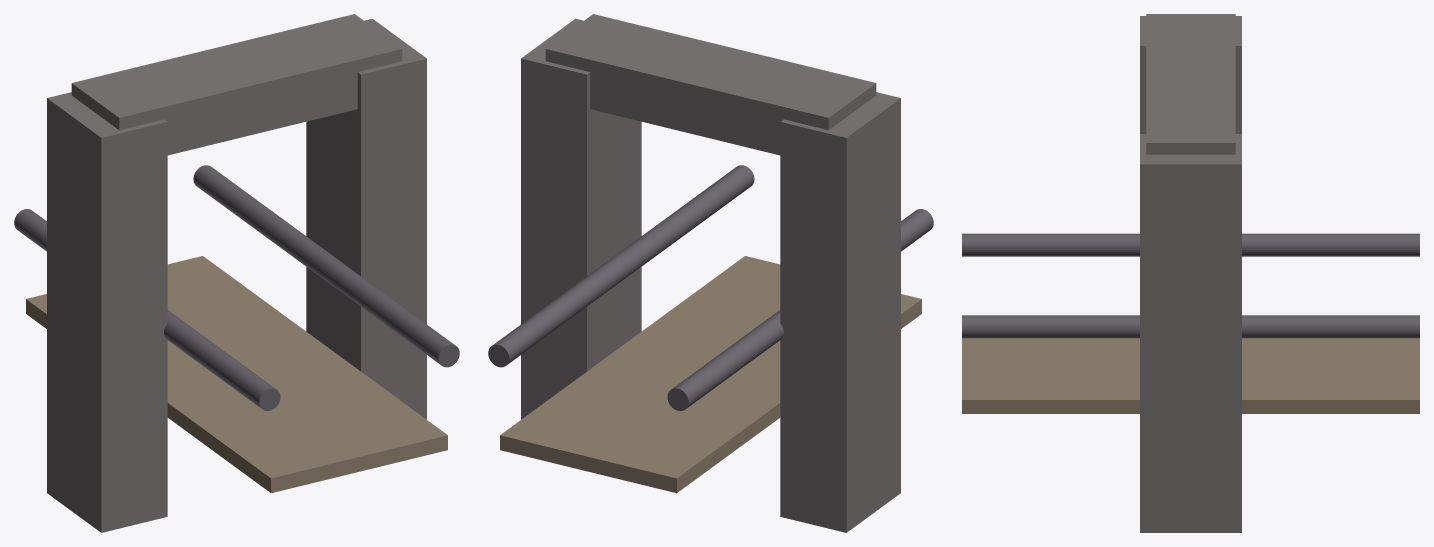
The model's file is structure_monumental_chain_bridge.glb.
3 renders of one model, left to right at view 1: azimuth 30°, elevation 25°; view 2: azimuth 150°, elevation 25°; view 3: azimuth 270°, elevation 25°, orthographic. The views are drawn at different scales.
Parts seen in each view (by area): view 1: Abyss_Pylon_Left, Suspended_Deck_Platform, Abyss_Pylon_Right, Pylon_Connecting_Arch, Titan_Cable_Chain_R, Titan_Cable_Chain_L; view 2: Abyss_Pylon_Left, Suspended_Deck_Platform, Abyss_Pylon_Right, Pylon_Connecting_Arch, Titan_Cable_Chain_R, Titan_Cable_Chain_L; view 3: Abyss_Pylon_Right, Suspended_Deck_Platform, Pylon_Connecting_Arch, Titan_Cable_Chain_L, Titan_Cable_Chain_R, Abyss_Pylon_Left.
Part boxes in pixels (x1,y1,x2,y2): Abyss_Pylon_Left: (47, 92, 167, 532); Suspended_Deck_Platform: (26, 256, 447, 493); Abyss_Pylon_Right: (306, 18, 426, 419); Pylon_Connecting_Arch: (71, 14, 402, 155); Titan_Cable_Chain_R: (193, 165, 459, 367); Titan_Cable_Chain_L: (14, 209, 280, 410); Abyss_Pylon_Left: (780, 92, 900, 532); Suspended_Deck_Platform: (500, 256, 921, 493); Abyss_Pylon_Right: (521, 18, 641, 419); Pylon_Connecting_Arch: (545, 14, 876, 155); Titan_Cable_Chain_R: (488, 165, 754, 367); Titan_Cable_Chain_L: (667, 209, 933, 410); Abyss_Pylon_Right: (1140, 134, 1241, 532); Suspended_Deck_Platform: (962, 338, 1419, 413); Pylon_Connecting_Arch: (1146, 14, 1235, 154); Titan_Cable_Chain_L: (962, 233, 1419, 256); Titan_Cable_Chain_R: (962, 315, 1419, 338); Abyss_Pylon_Left: (1140, 16, 1241, 133).
Size of the model in its own units: 13.8 by 16.5 by 18.
